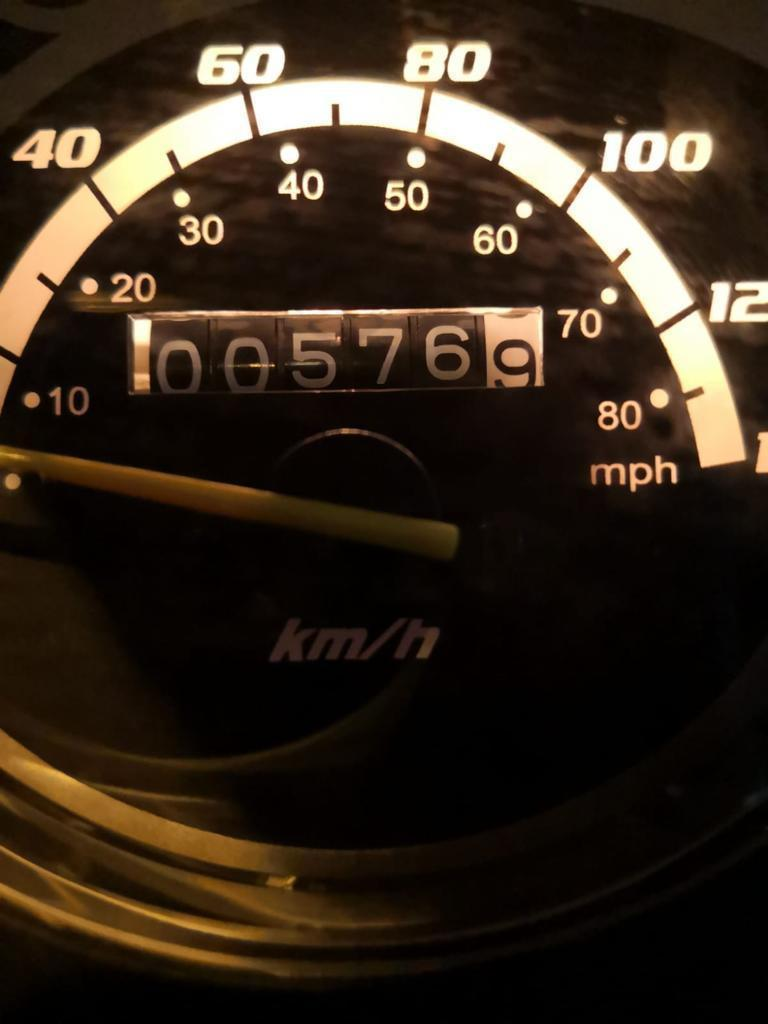0: (221, 330, 275, 396), (153, 331, 206, 396)
5: (290, 326, 342, 391)
6: (423, 322, 474, 383)
7: (352, 322, 407, 386)
9: (489, 331, 540, 391)
odometer: (119, 302, 552, 400)
